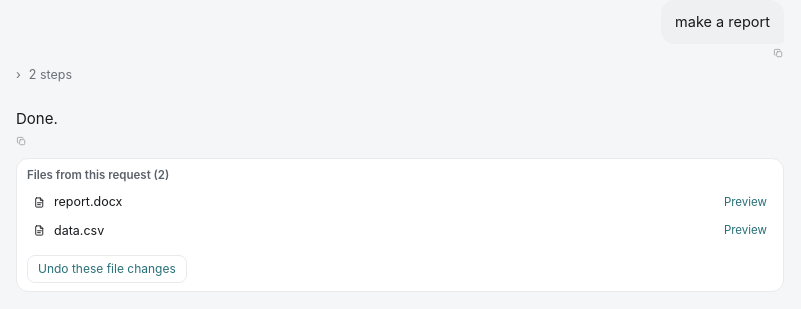
Test: undoing a request's file changes › shows a failure's reason
Click the button with test id "undo-run-files". click: (107, 269)
box: [27,255,187,283]
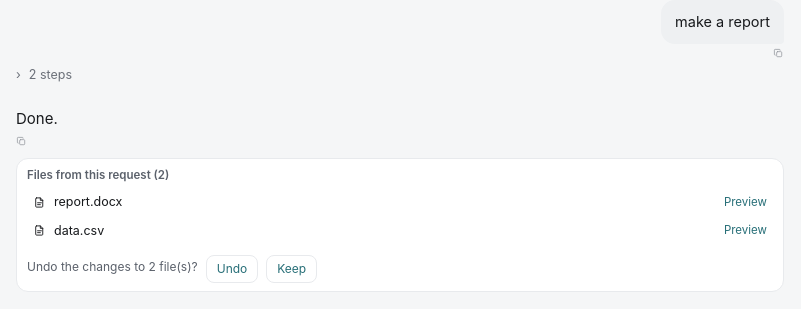
Click the button with test id "undo-run-files-confirm". click: (232, 269)
box: [206,255,258,283]
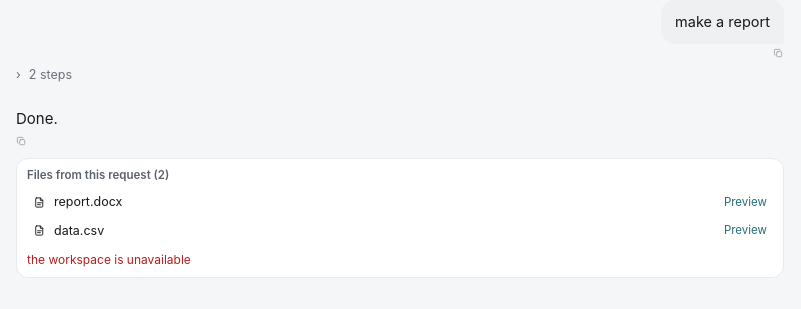
Result: the text with test id "undo-run-files-result" shows "workspace is unavailable" at [27,252,191,267]
